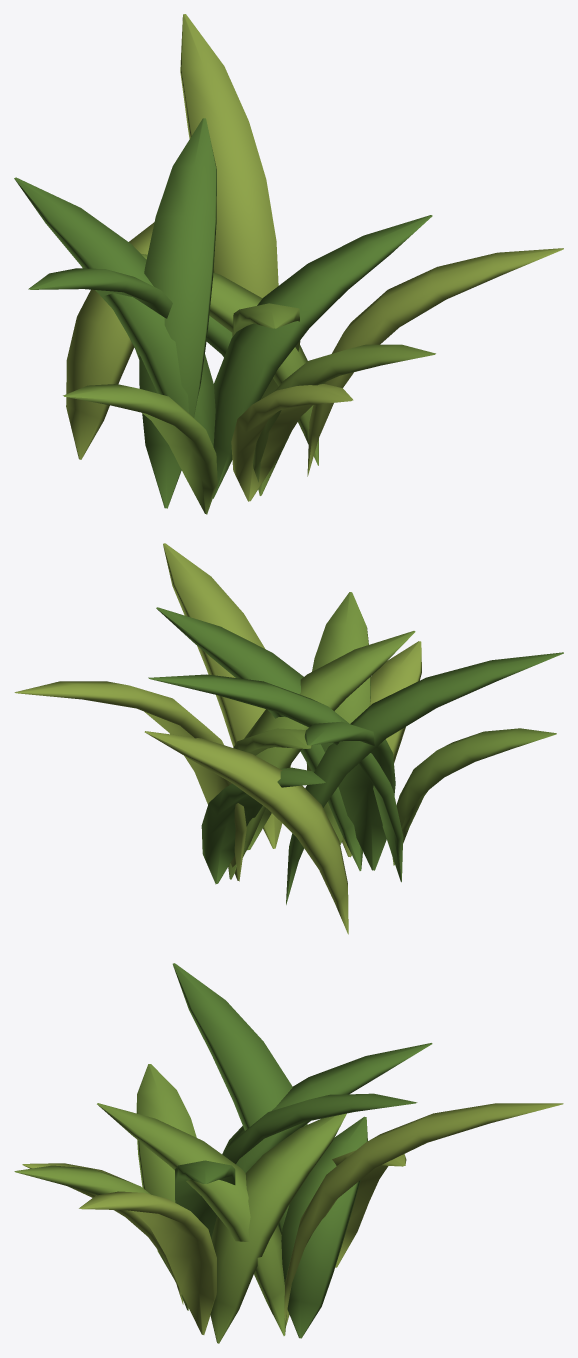
The model's file is grass.glb.
The picture shows the model from 3 angles, top to bottom: view 1: azimuth 30°, elevation 25°; view 2: azimuth 150°, elevation 25°; view 3: azimuth 270°, elevation 25°; orthographic projection. The views are drawn at different scales.
Parts seen in each view (by area): view 1: Grass · curved tuft; view 2: Grass · curved tuft; view 3: Grass · curved tuft.
Boxes of the visible parts, x1,y1,x2,y2 form: Grass · curved tuft: (14,14,563,514); Grass · curved tuft: (14,543,563,934); Grass · curved tuft: (14,963,563,1343).
Bounding box in the file's own units: 0.7367 × 0.431 × 0.8093.
